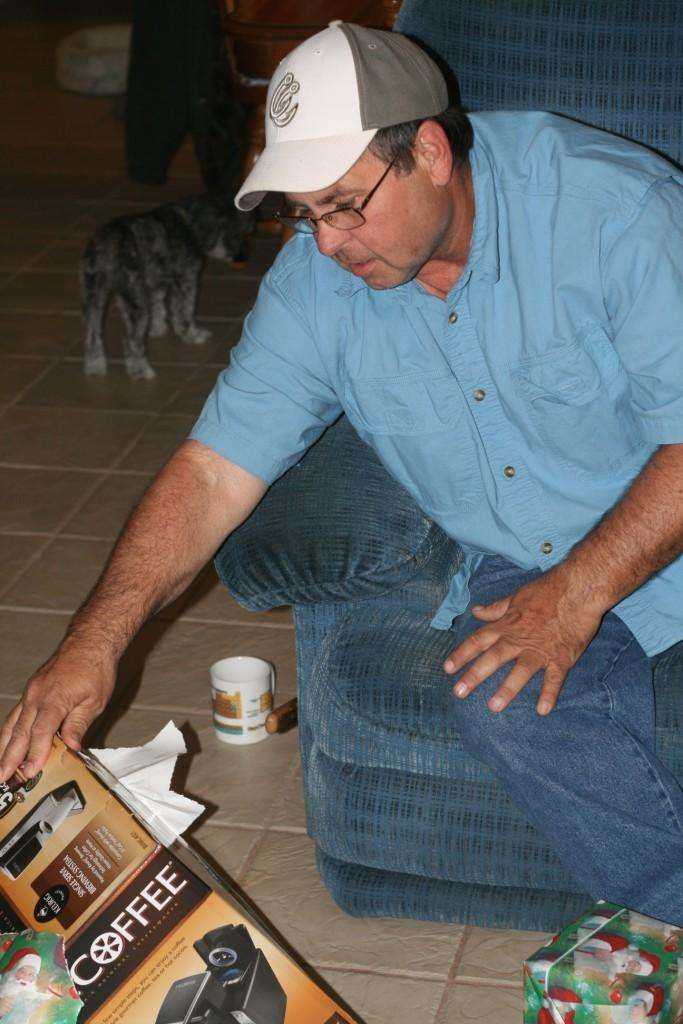Hat: (227, 8, 475, 228)
